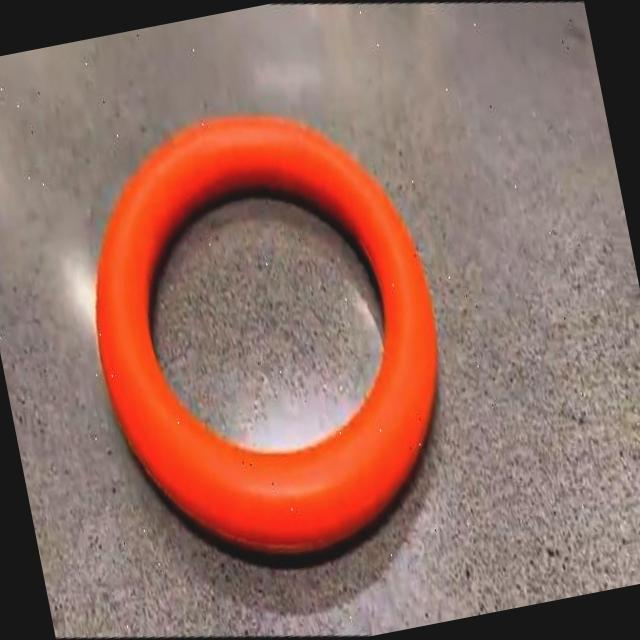note: (97, 120, 437, 553)
